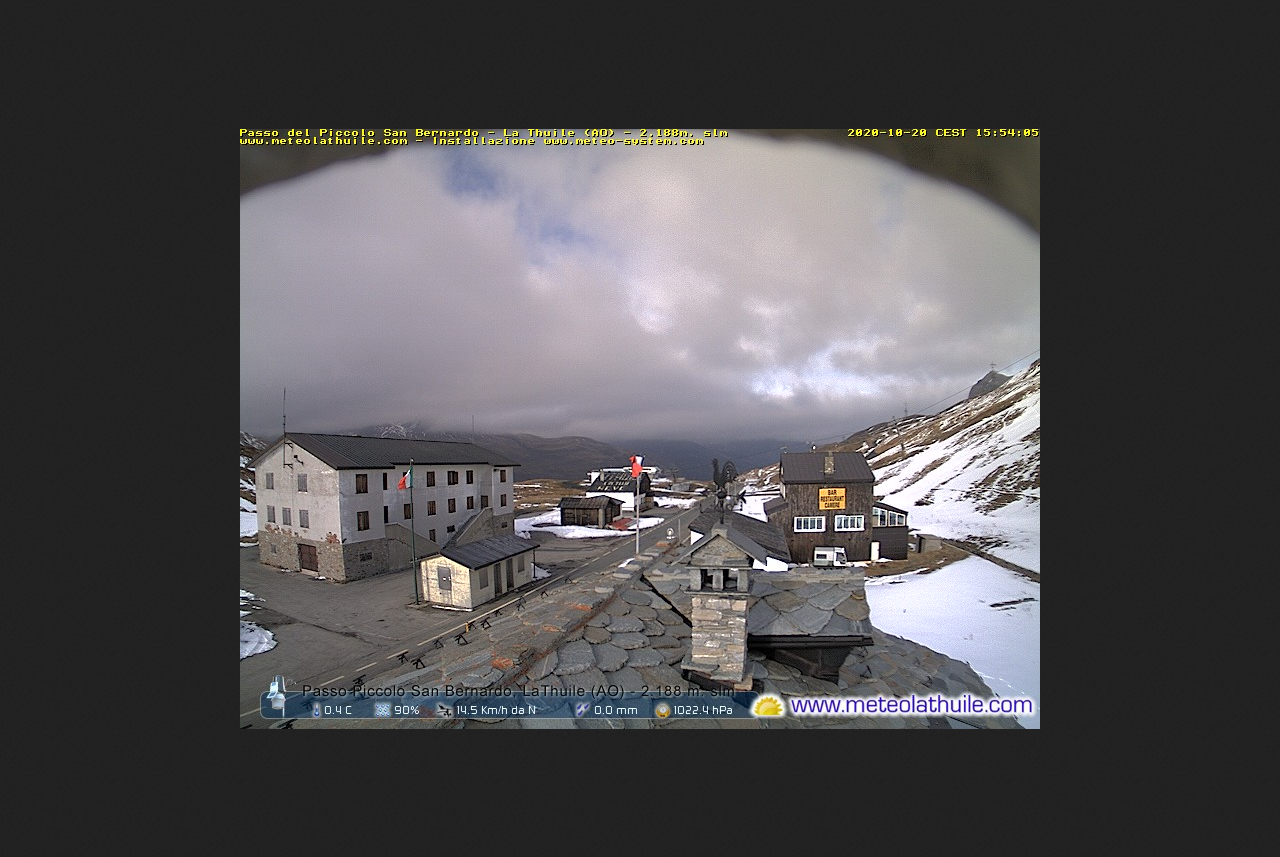maybe: (398, 458, 414, 494)
